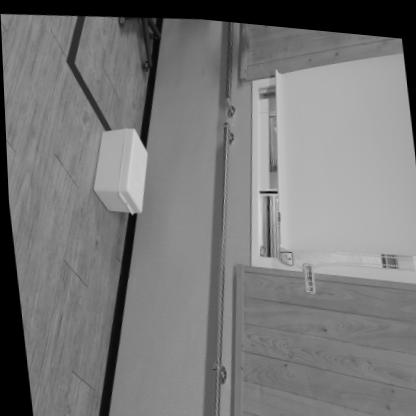DDL: (84, 121, 152, 218)
